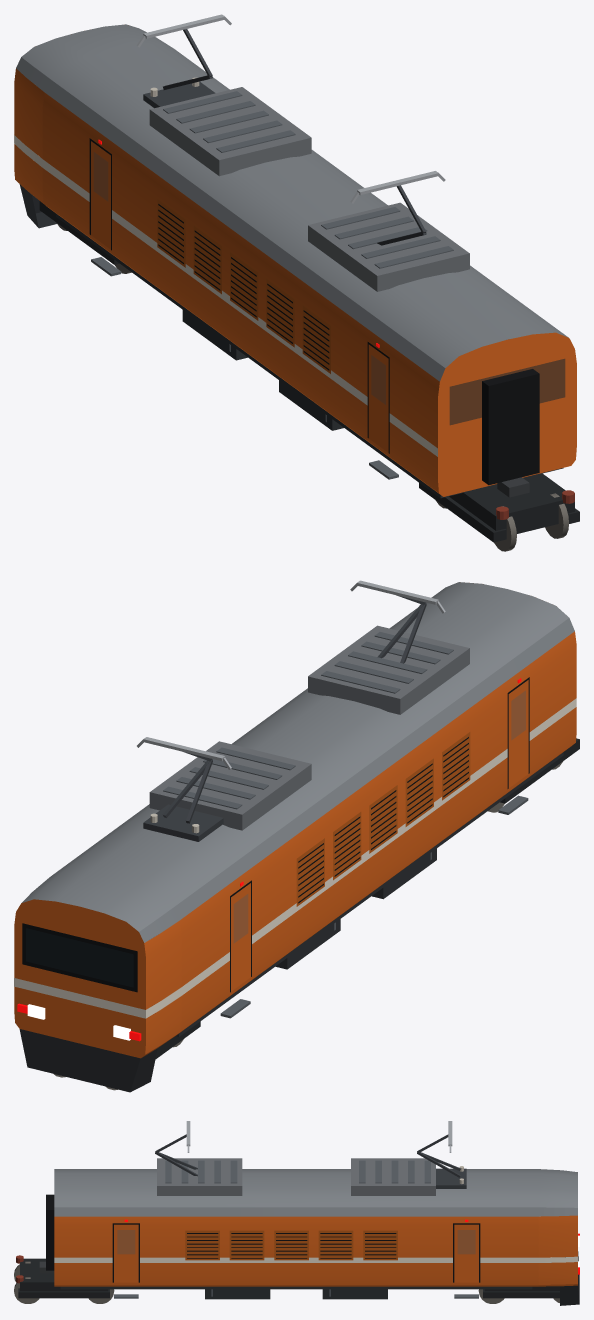
The model's file is chukuang-lead.glb.
3 views of the same model, one above another, from view 1: azimuth 30°, elevation 25°; view 2: azimuth 150°, elevation 25°; view 3: azimuth 270°, elevation 25° (orthographic). The views are drawn at different scales.
Visible parts, largest first — view 1: ChuKuang_Lead; view 2: ChuKuang_Lead; view 3: ChuKuang_Lead.
Part boxes in pixels (x1=…): ChuKuang_Lead: x1=14, y1=14, x2=579, y2=551; ChuKuang_Lead: x1=14, y1=580, x2=579, y2=1092; ChuKuang_Lead: x1=14, y1=1121, x2=579, y2=1305.
Size of the model in its own units: 3.08 by 5.48 by 17.29.
